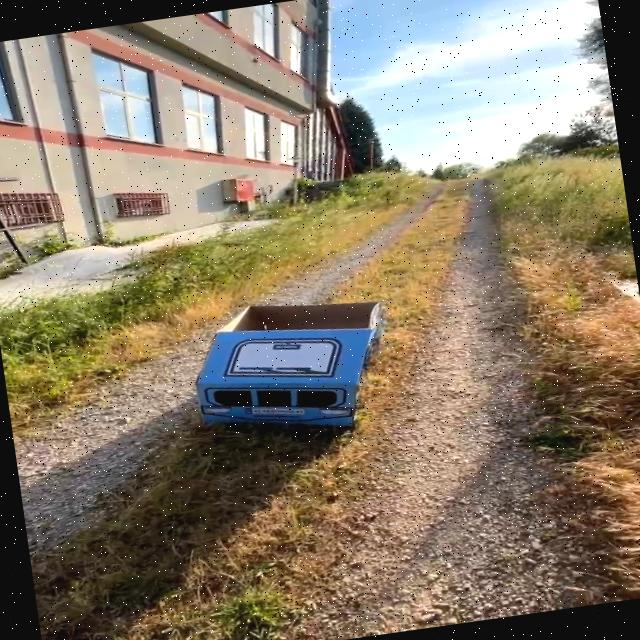blue_car: (139, 265, 421, 477)
